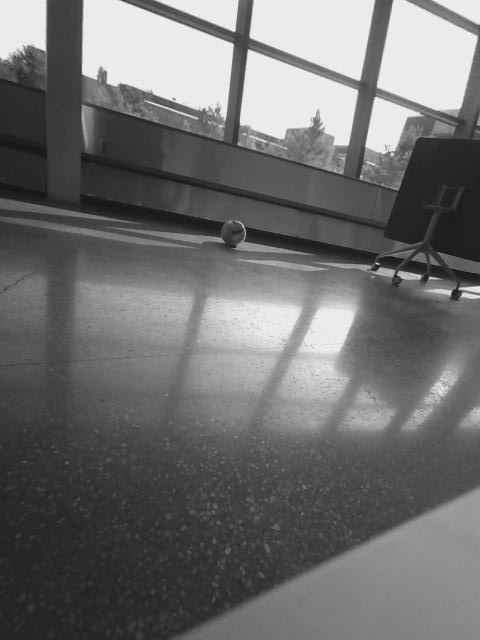ball: (218, 218, 248, 247)
